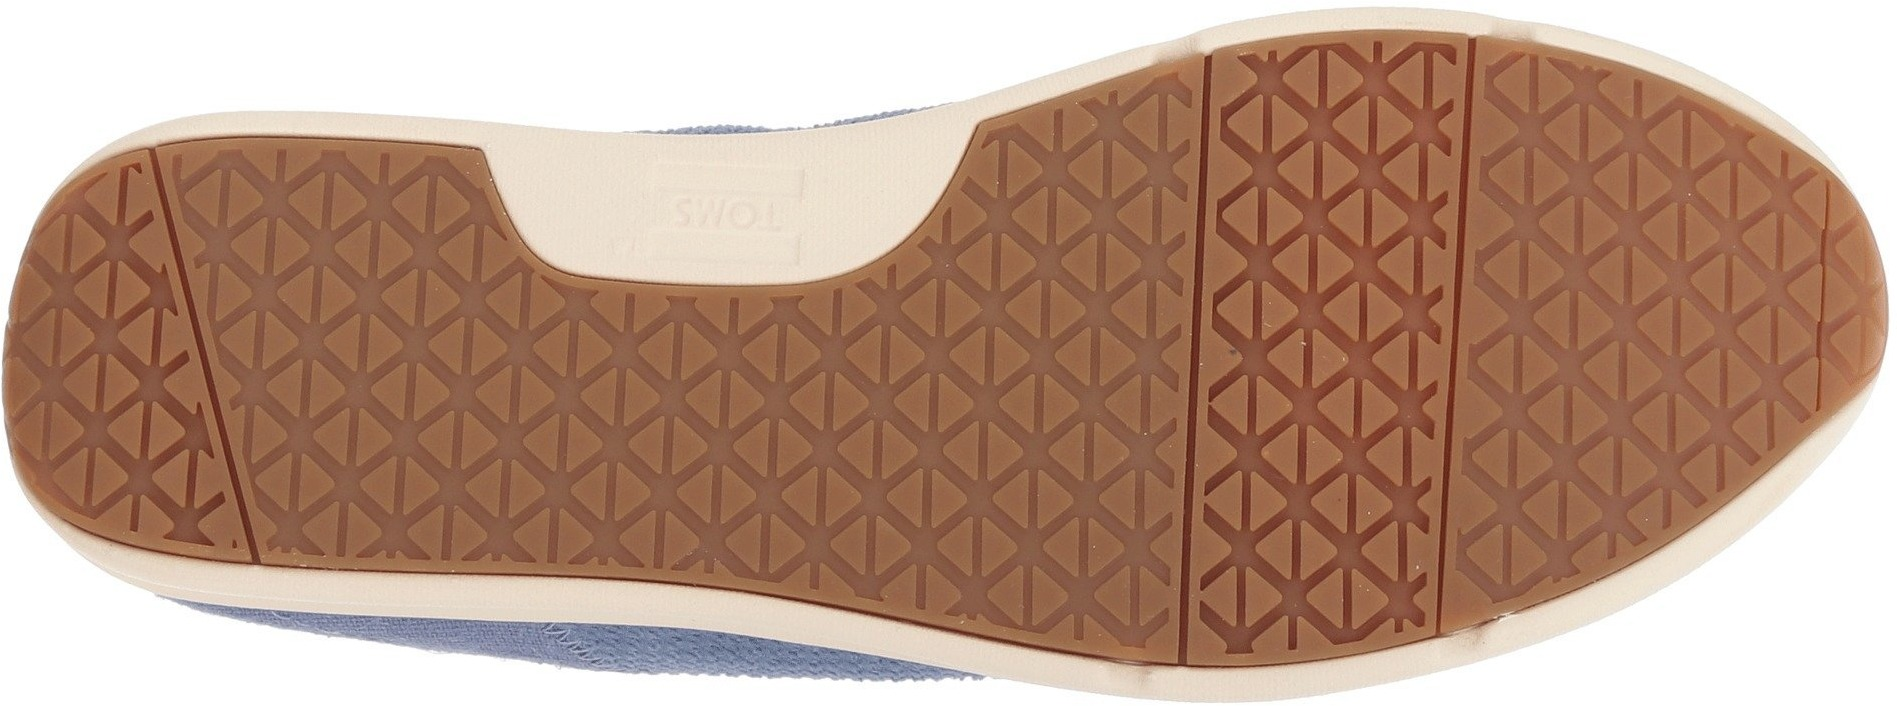exclude: (538, 8, 1013, 135)
quad: (625, 138, 820, 287)
text: (665, 150, 807, 259)
triangle: (1463, 155, 1766, 464), (714, 332, 988, 589), (1209, 71, 1458, 318), (1194, 366, 1443, 604), (466, 303, 688, 508), (988, 126, 1190, 328), (269, 154, 475, 348), (256, 340, 461, 536), (991, 349, 1187, 550), (31, 282, 211, 478)
